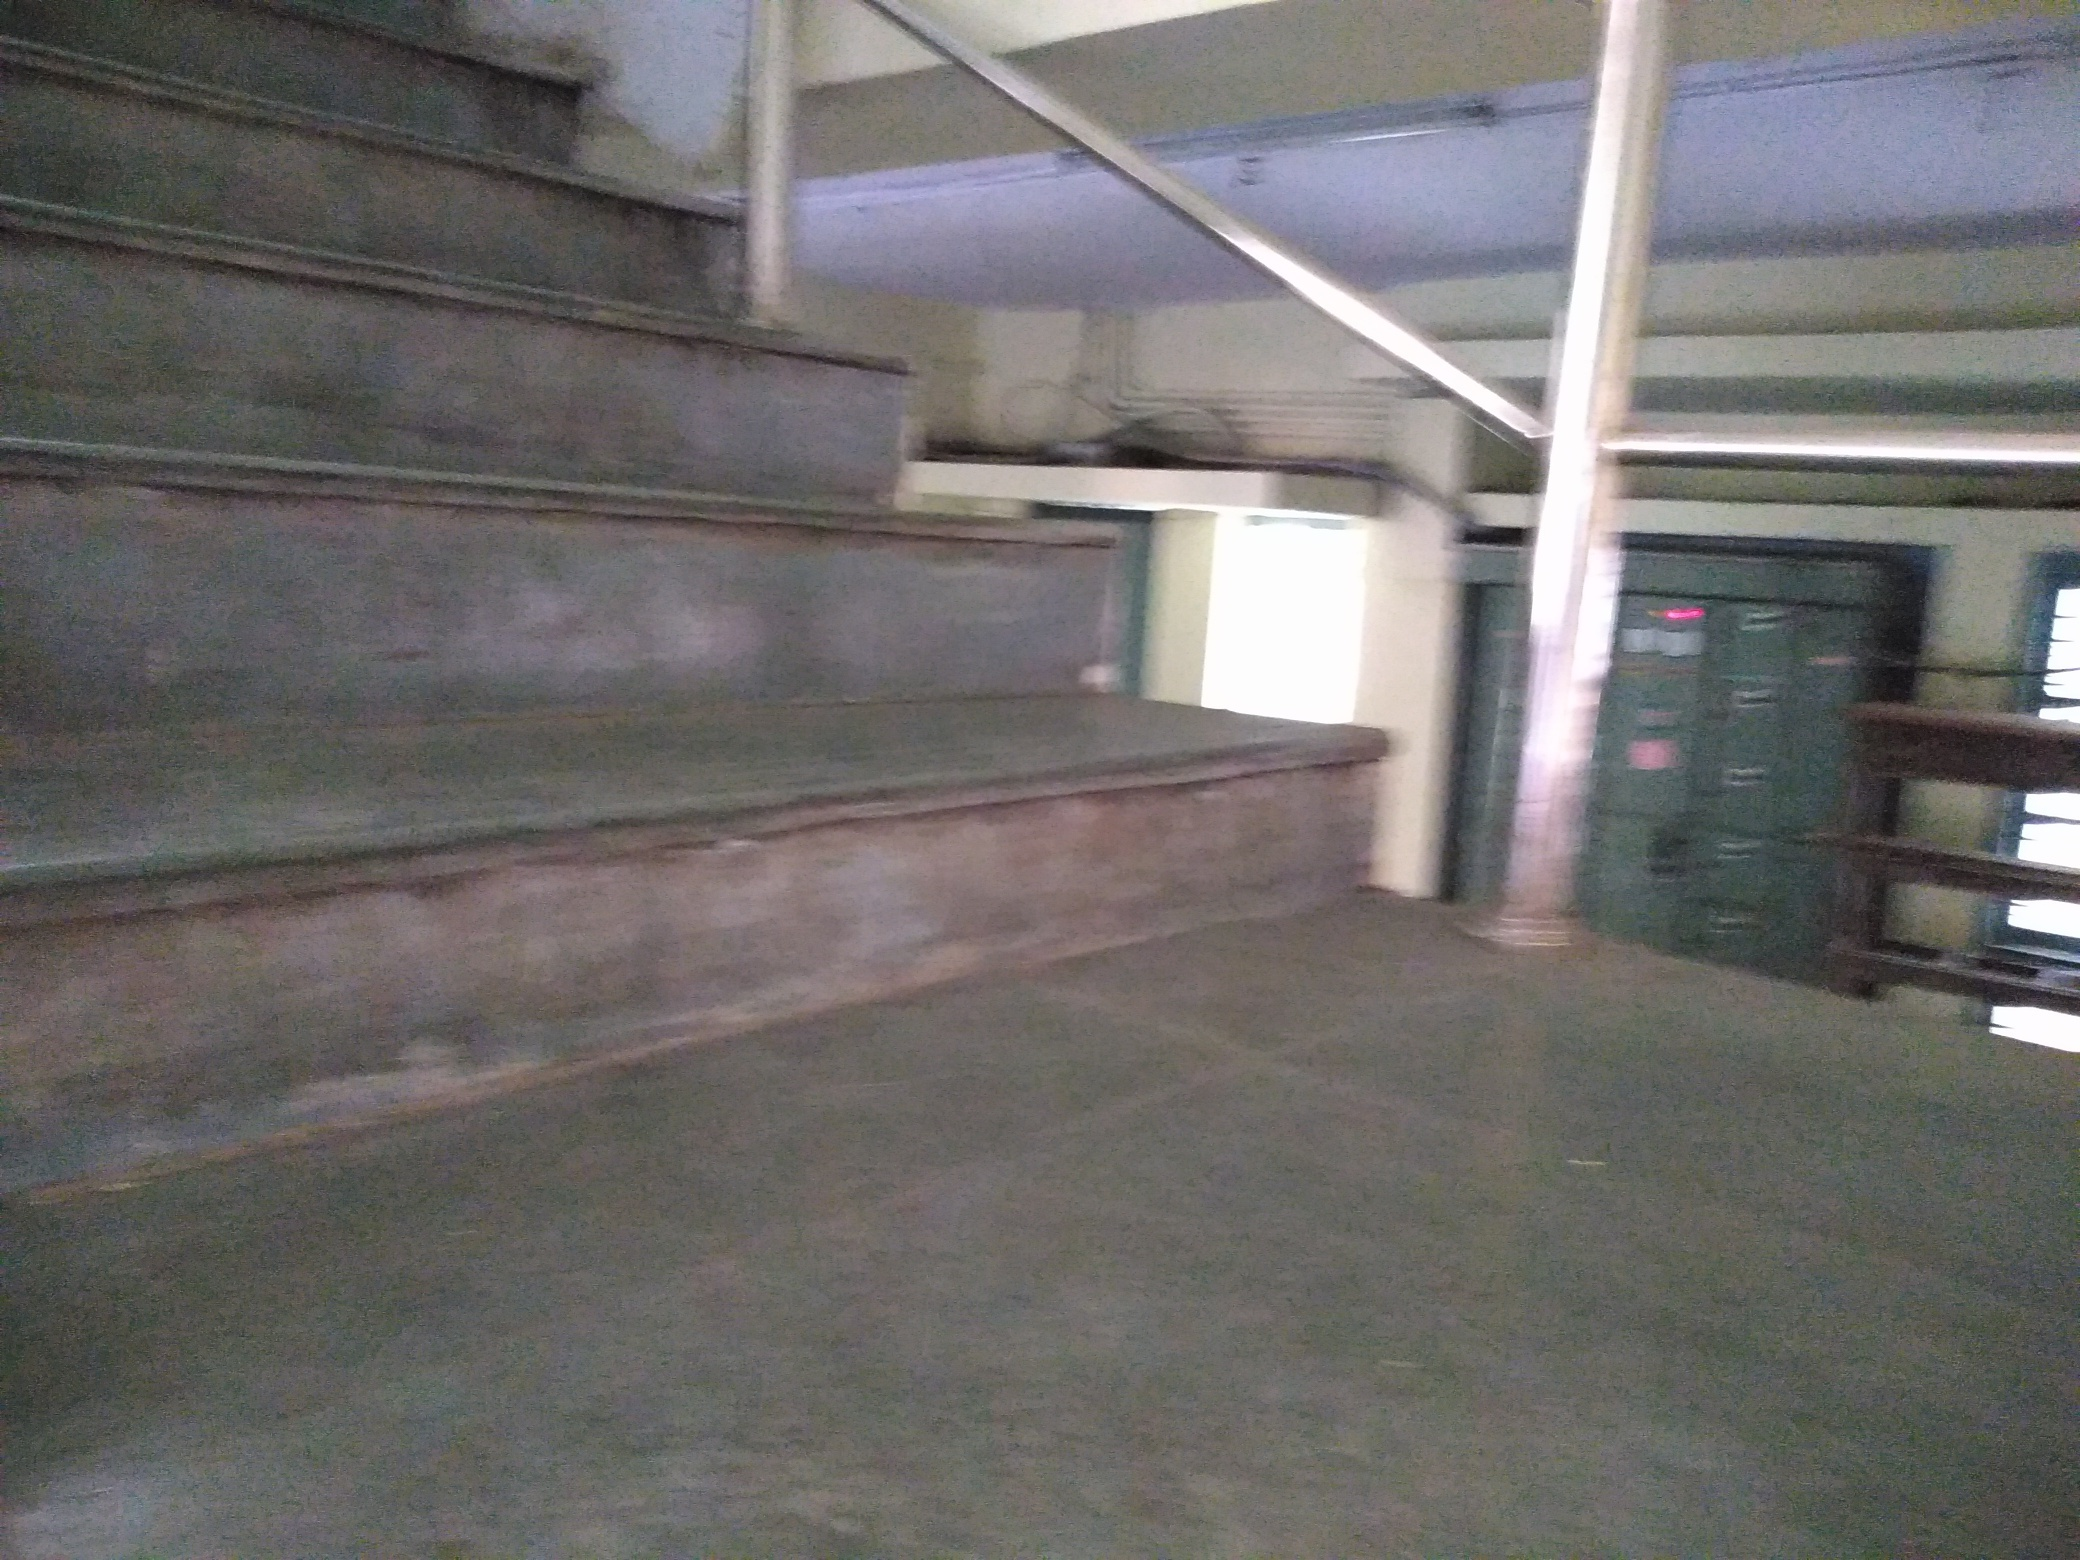stairs_up: (3, 26, 1422, 990)
